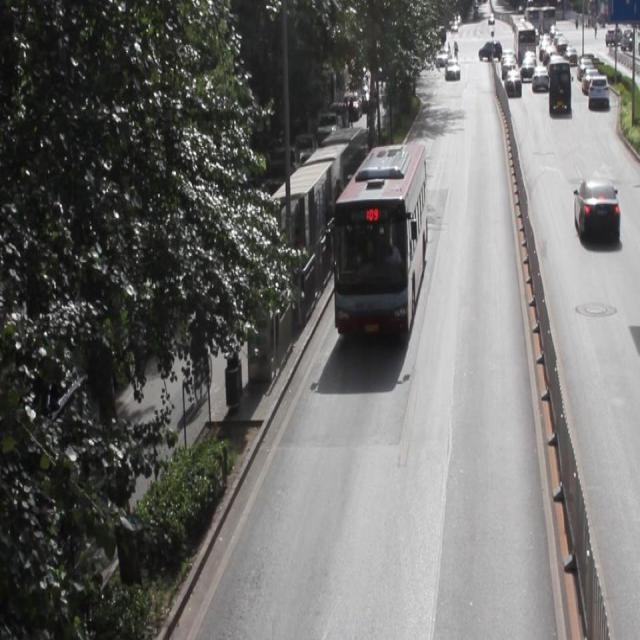car: (573, 179, 618, 241)
van: (334, 142, 426, 337)
